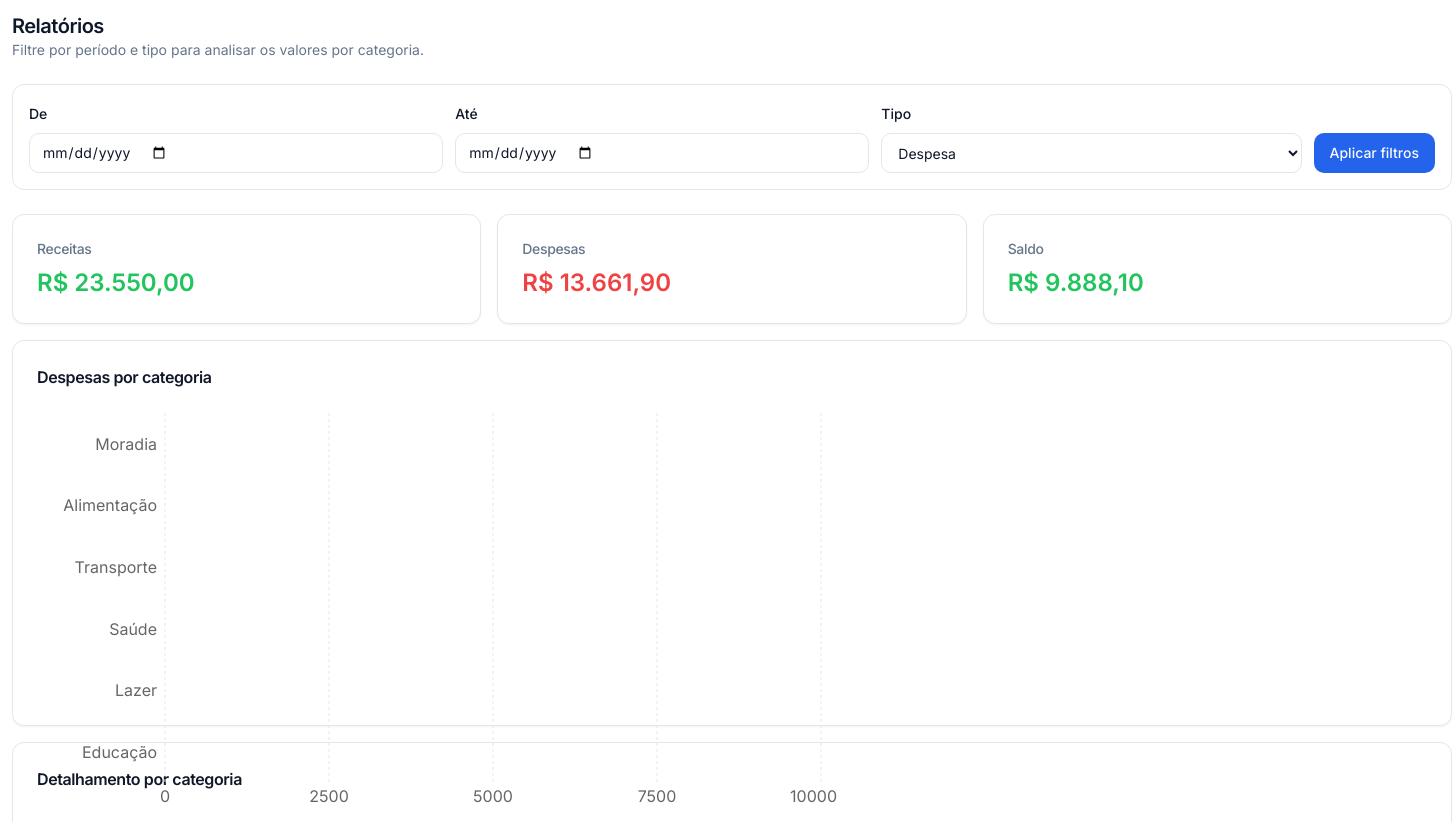
it: ReportsPage (AC-001, AC-007) › mostra o estado vazio quando não há dados no período
Check: the text "Despesas por categoria" is shown, box 37,367 -> 212,387
Type "2030-01-01" into the date field labelled "De" at (236, 153), box 29,133 -> 443,173
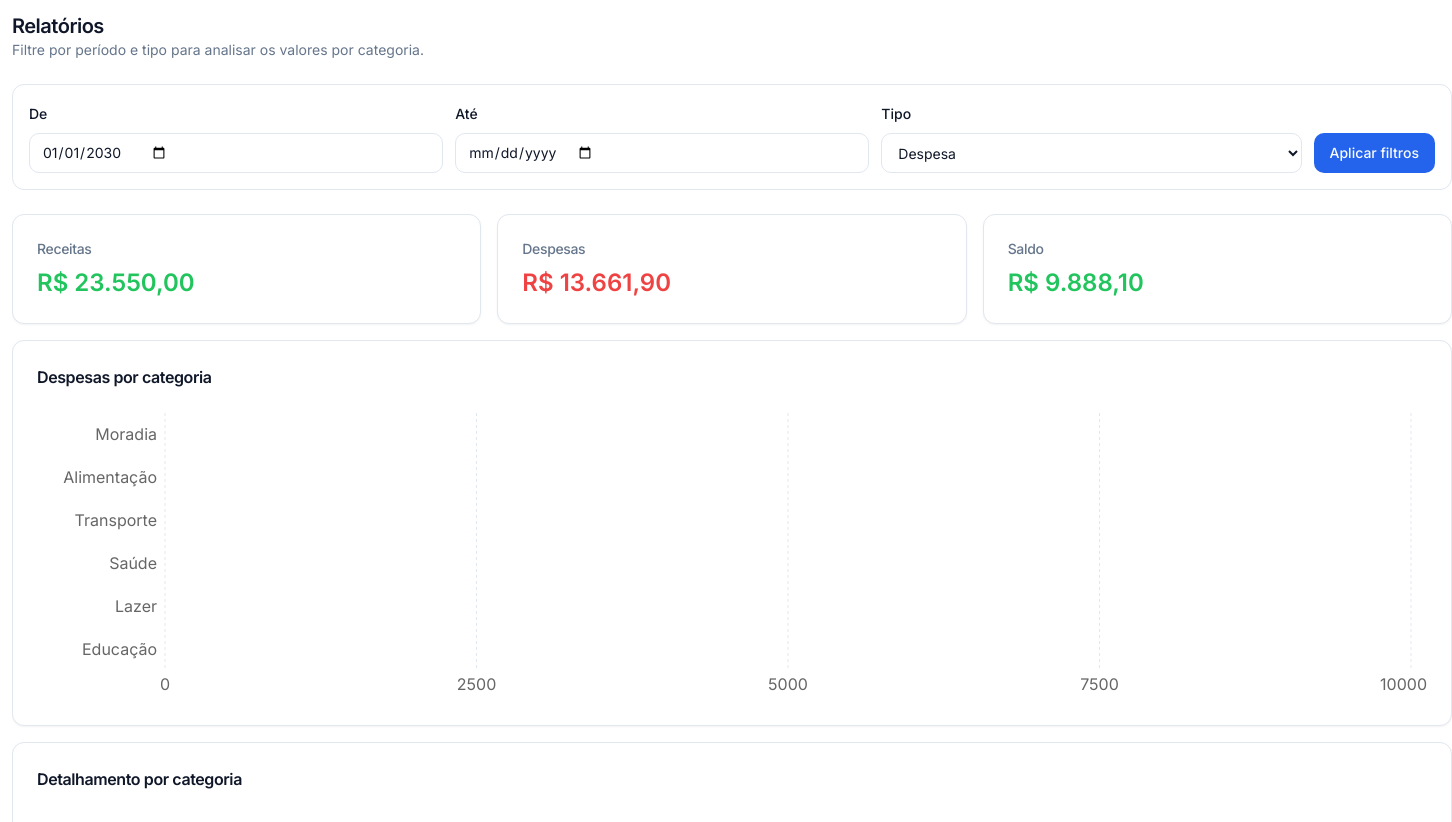
Type "2030-12-31" into the date field labelled "Até" at (662, 153), box 455,133 -> 869,173
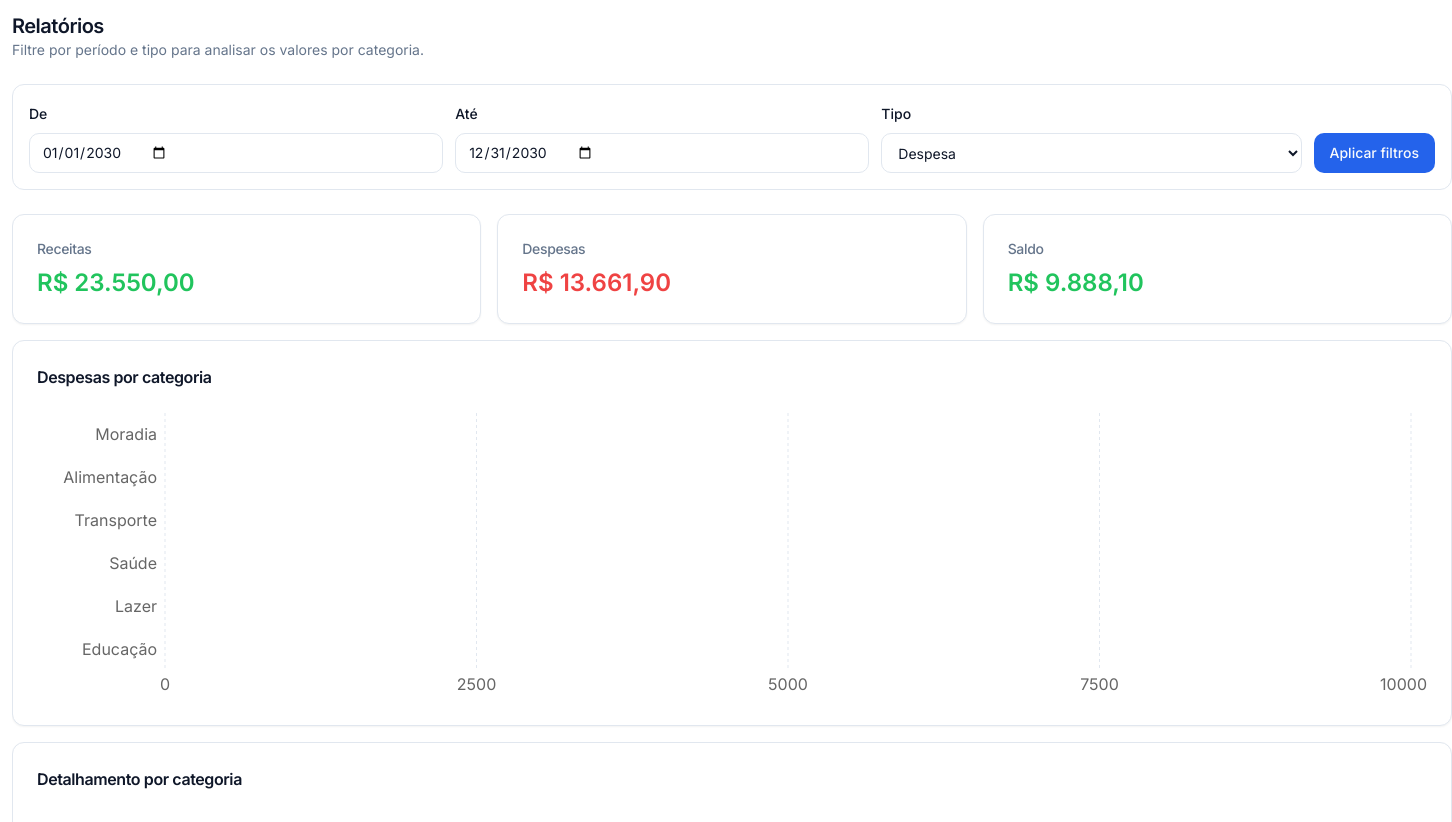
Click the button "Aplicar filtros" at (1374, 153), box 1314,133 -> 1435,173
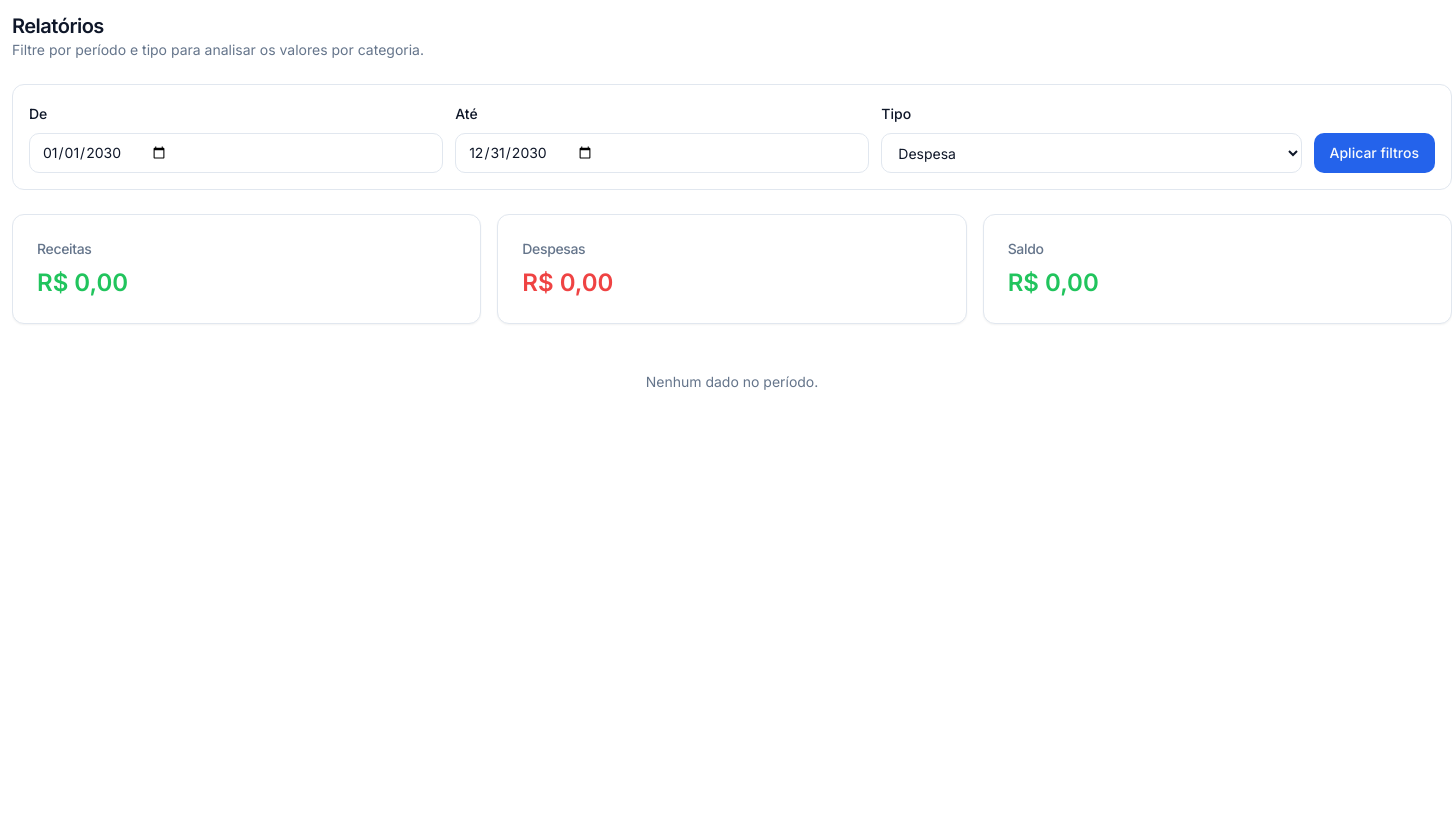
Check: the message reads "Nenhum dado no período.", box 646,373 -> 818,390
